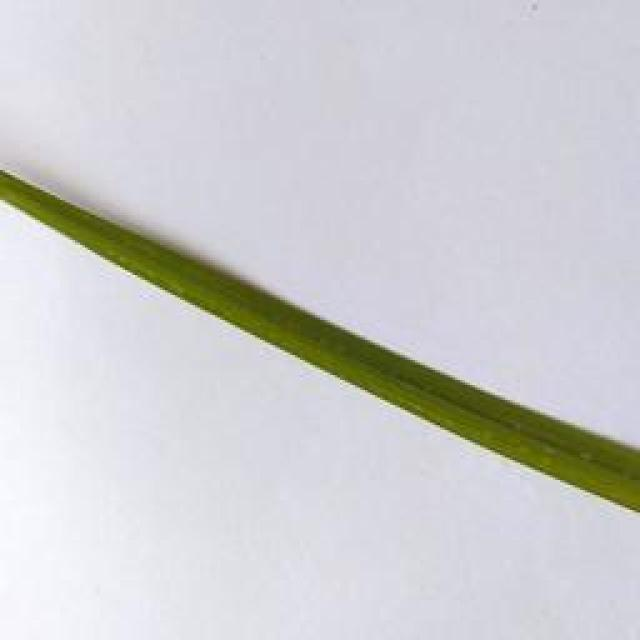Healthy-Plant: (0, 164, 640, 512)
